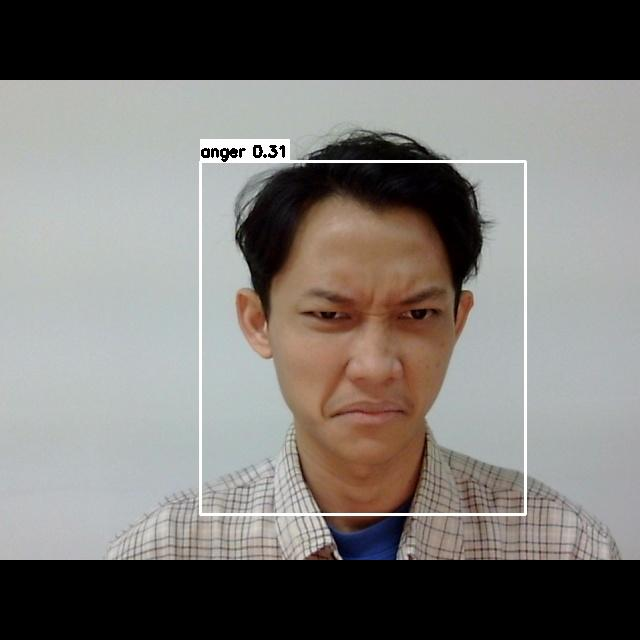Disgust: (269, 252, 466, 441)
